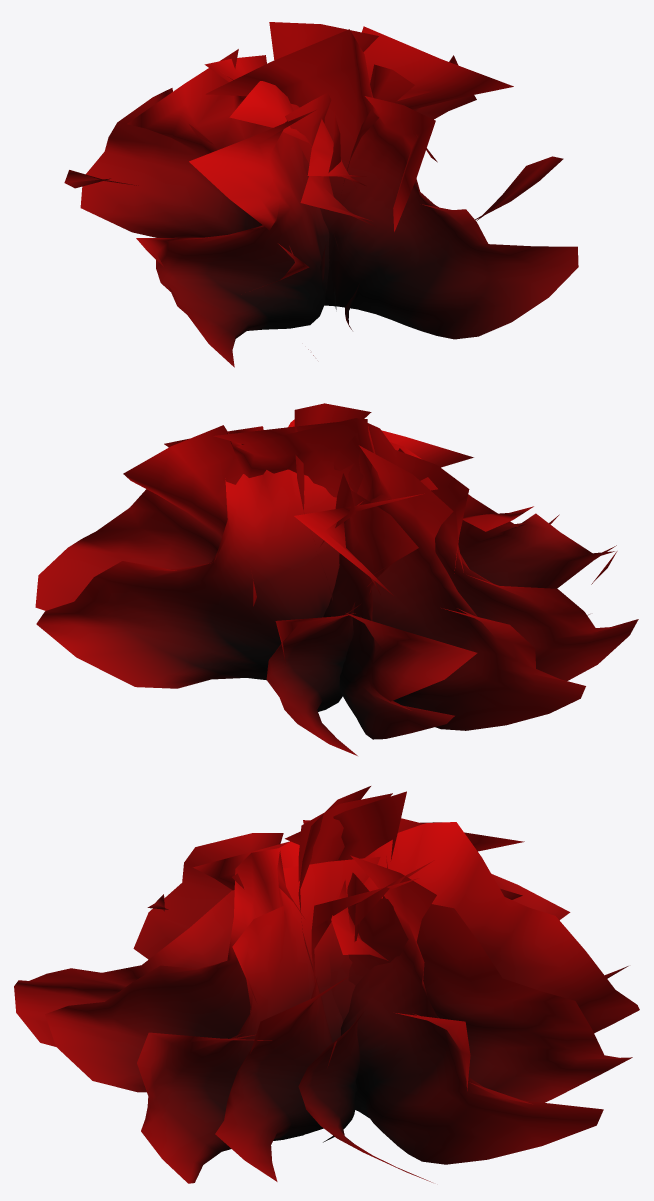
The picture shows the model from 3 angles, top to bottom: view 1: azimuth 30°, elevation 25°; view 2: azimuth 150°, elevation 25°; view 3: azimuth 270°, elevation 25°; orthographic projection. The views are drawn at different scales.
Parts seen in each view (by area): view 1: sea_lettuce_1; view 2: sea_lettuce_1; view 3: sea_lettuce_1.
Part boxes in pixels (box(x1,y1,x2,y2)): sea_lettuce_1: box(64, 22, 578, 367); sea_lettuce_1: box(35, 403, 638, 755); sea_lettuce_1: box(14, 786, 639, 1183).
Bounding box in the file's own units: 0.2177 × 0.1063 × 0.1999.
